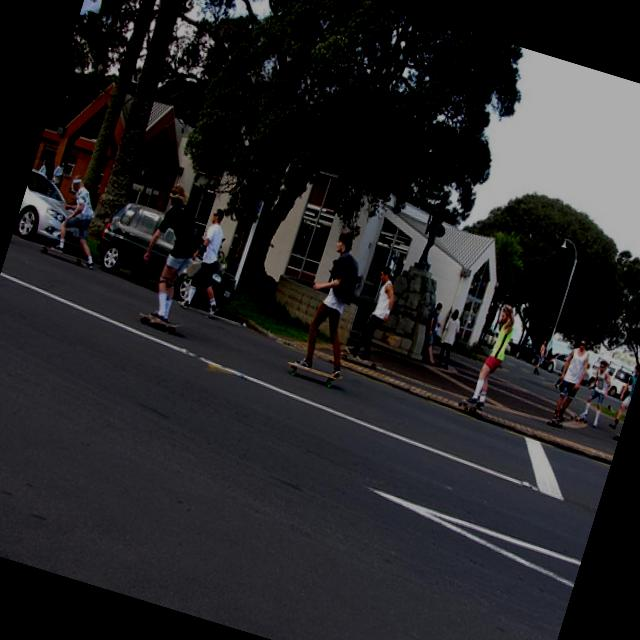Vehicle: (88, 196, 252, 314), (13, 163, 79, 244), (600, 361, 636, 401), (513, 342, 544, 366), (544, 348, 568, 375)
